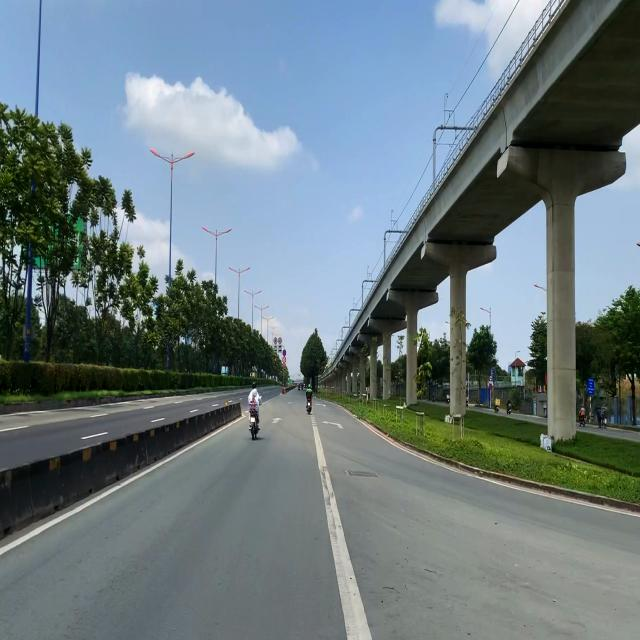Cam dung va do: (282, 349, 286, 357)
